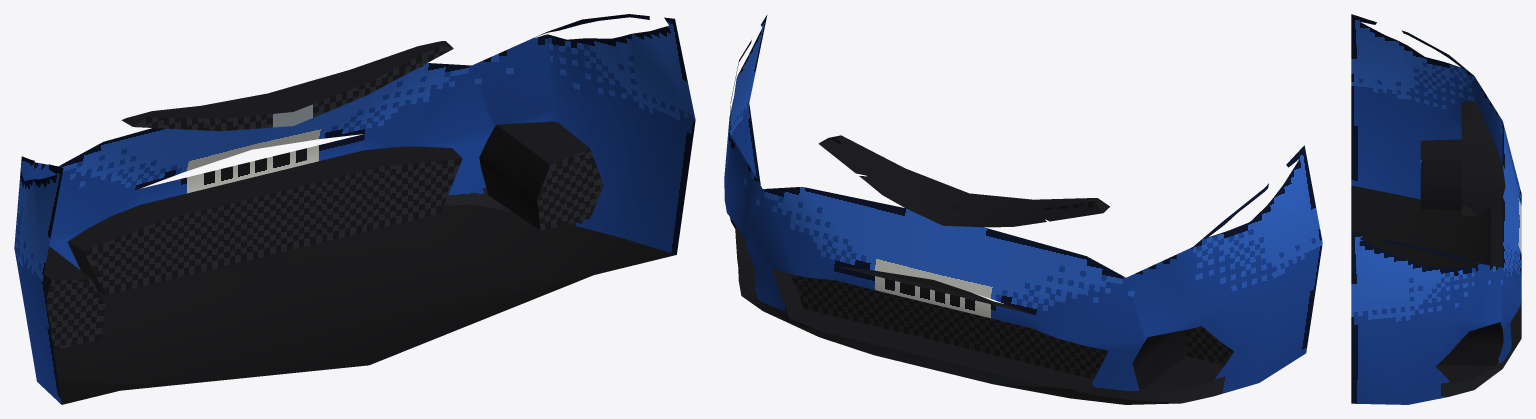
The model's file is bumper_F_sport.glb.
3 renders of one model, left to right at view 1: azimuth 30°, elevation 25°; view 2: azimuth 150°, elevation 25°; view 3: azimuth 270°, elevation 25°, orthographic. The views are drawn at different scales.
Visible parts, largest first — view 1: bumper_F_sport; view 2: bumper_F_sport; view 3: bumper_F_sport.
Boxes of the visible parts, x1,y1,x2,y2 form: bumper_F_sport: [14, 14, 695, 404]; bumper_F_sport: [724, 15, 1322, 404]; bumper_F_sport: [1351, 14, 1521, 404].
Size of the model in its own units: 1.74 by 0.6913 by 0.54.
Materials: 1 (1 with a texture image).
